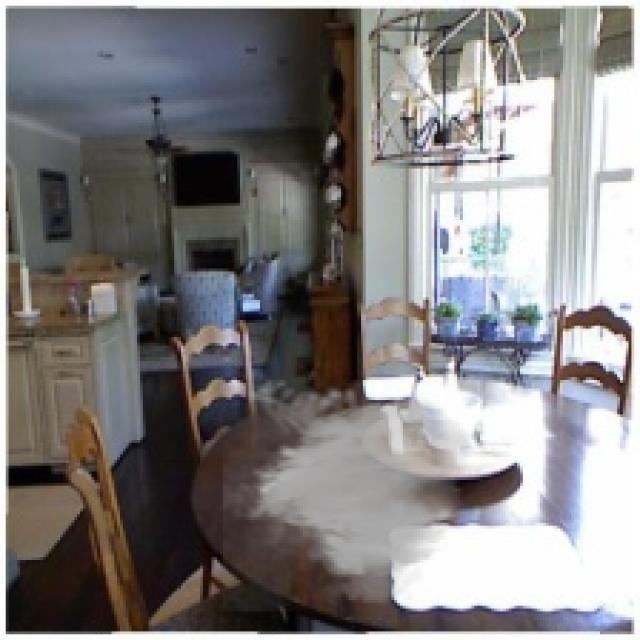Smoke: (222, 372, 478, 612)
